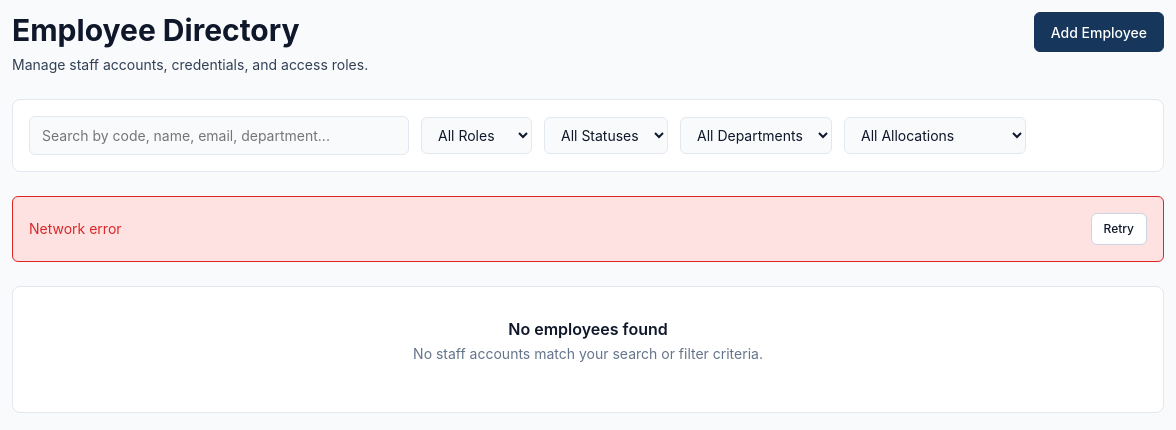
Test: EmployeesPage › shows error alert and allows retry
This screenshot has width=1176, height=430.
Expected: the message "Network error Retry" is shown, [12, 196, 1164, 262]
Expected: the text "Network error" is shown, [29, 218, 122, 239]
Click the button with test id "employees-retry-btn" at [1119, 228], box [1090, 212, 1147, 244]
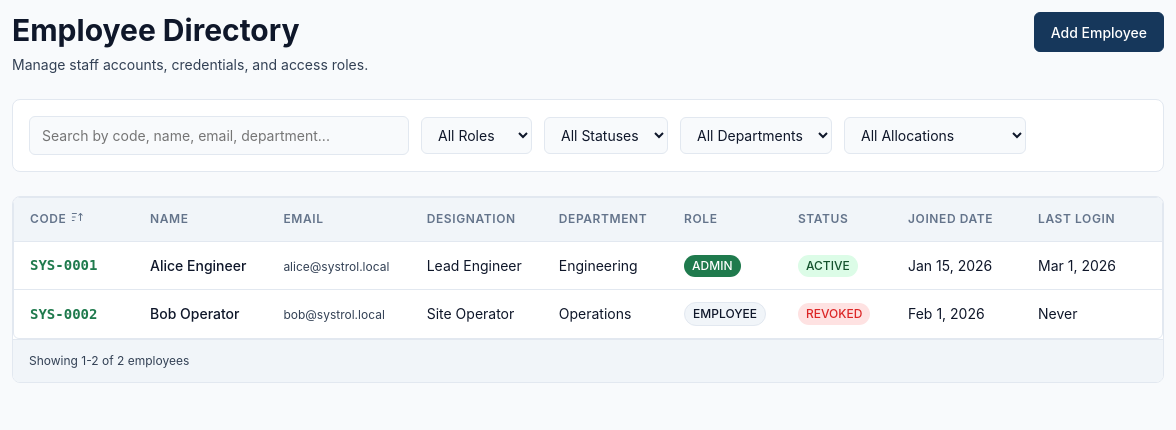
Expected: the text "SYS-0001" is shown, [30, 257, 97, 273]
